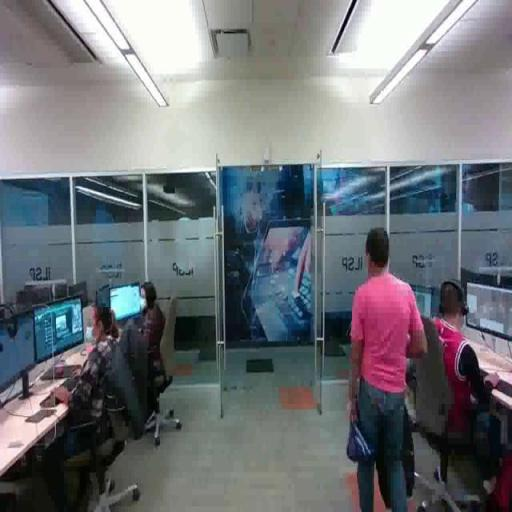person: (345, 222, 433, 512), (423, 280, 503, 505), (51, 304, 132, 484), (125, 280, 168, 374)
